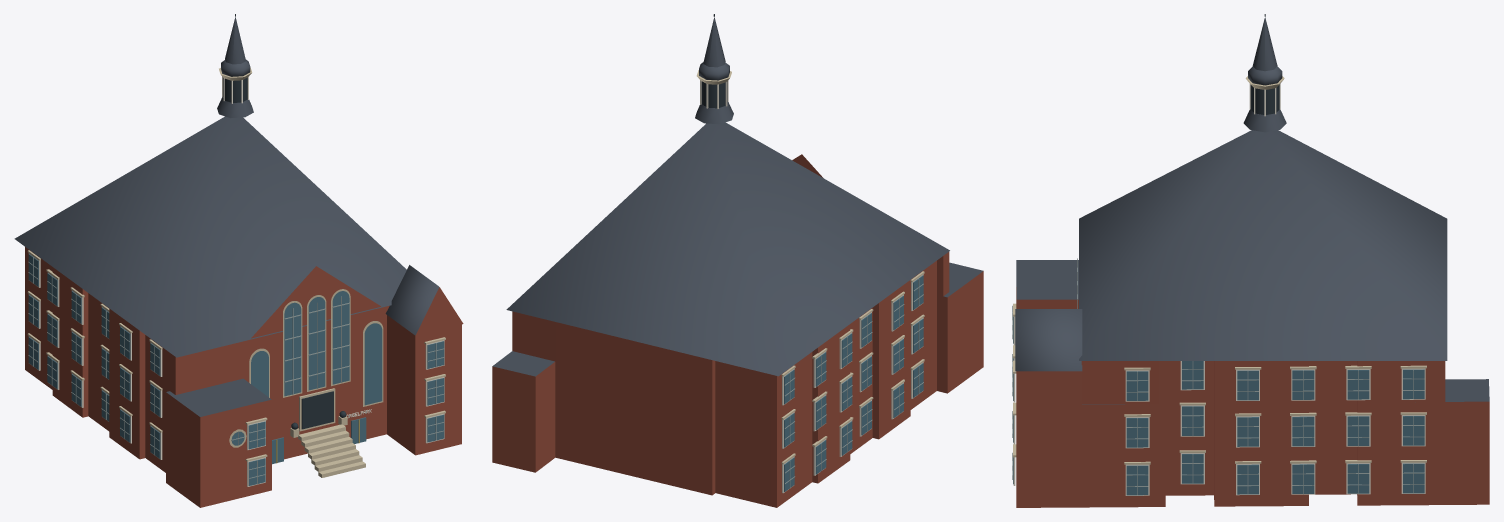
Rendered from orgelpark.glb.
3 renders of one model, left to right at view 1: azimuth 30°, elevation 25°; view 2: azimuth 150°, elevation 25°; view 3: azimuth 270°, elevation 25°, orthographic. The views are drawn at different scales.
Parts seen in each view (by area): view 1: orgelpark; view 2: orgelpark; view 3: orgelpark.
Part boxes in pixels (x1=…): orgelpark: x1=14, y1=14, x2=463, y2=507; orgelpark: x1=492, y1=14, x2=983, y2=507; orgelpark: x1=1012, y1=14, x2=1489, y2=507.
Bounding box in the file's own units: 26.18 × 36 × 36.3.
